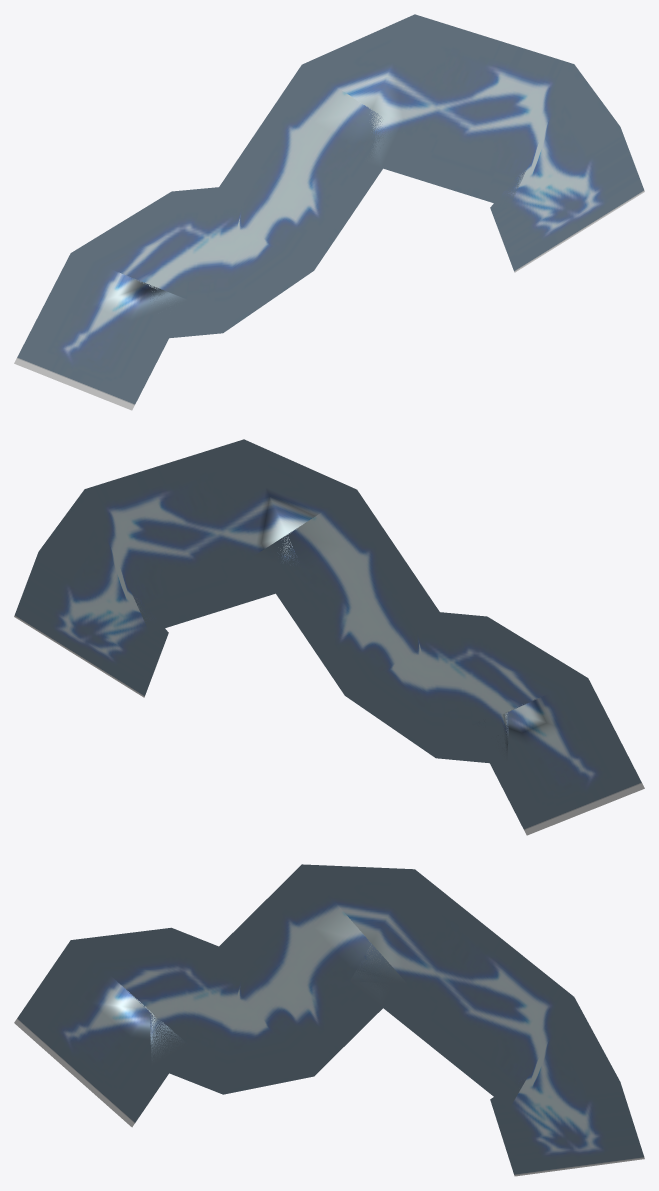
The model's file is shandian_1.FBX.
The picture shows the model from 3 angles, top to bottom: view 1: azimuth 30°, elevation 25°; view 2: azimuth 150°, elevation 25°; view 3: azimuth 330°, elevation 25°; orthographic projection.
Parts seen in each view (by area): view 1: shandian_1; view 2: shandian_1; view 3: shandian_1.
Boxes of the visible parts, x1,y1,x2,y2 form: shandian_1: (14,14,644,410); shandian_1: (14,439,644,835); shandian_1: (14,864,644,1176).
Bounding box in the file's own units: 231 × 115 × 1.96e-05.
